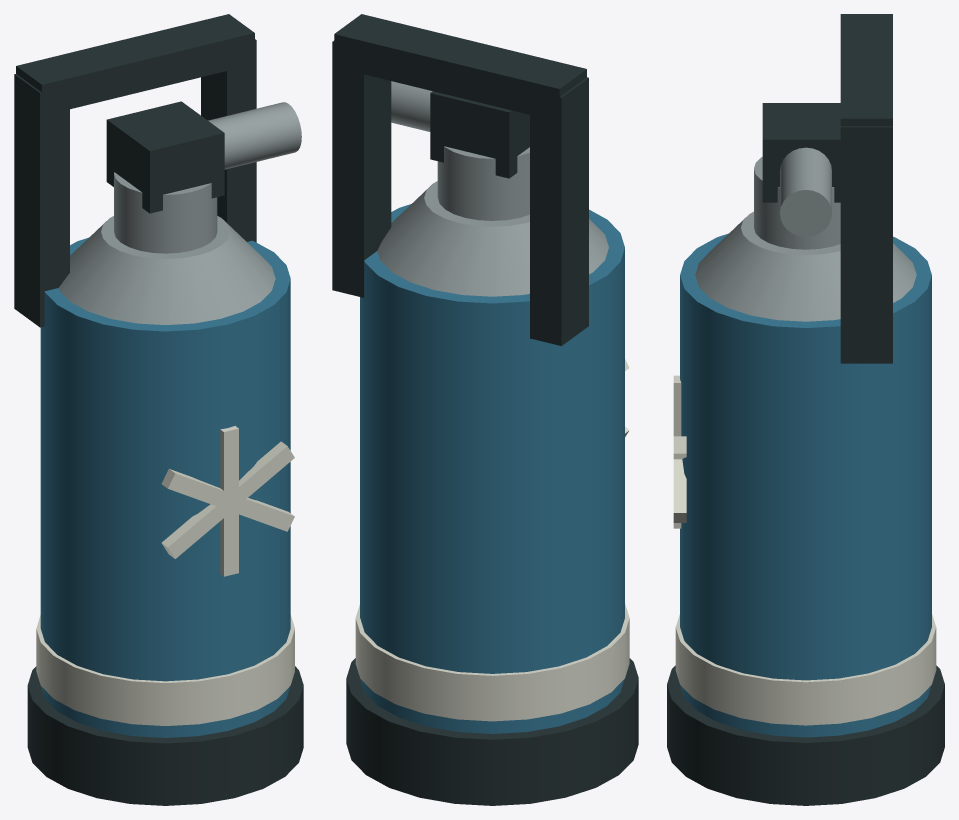
The model's file is FSA_ITEM_Consumable_007_Coolant.glb.
The picture shows the model from 3 angles, left to right: view 1: azimuth 30°, elevation 25°; view 2: azimuth 150°, elevation 25°; view 3: azimuth 270°, elevation 25°; orthographic projection. The views are drawn at different scales.
Parts seen in each view (by area): view 1: TankBody, TankBase, Shoulder, GuardBridge, ValveGuard_-1, LowerBand, Valve, ValveNeck, ValveGuard_1, Outlet, CoolingMark_2, CoolingMark_0 (+1 smaller); view 2: TankBody, TankBase, ValveGuard_-1, LowerBand, GuardBridge, ValveGuard_1, Shoulder, Valve, ValveNeck, Outlet; view 3: TankBody, TankBase, ValveGuard_1, LowerBand, Shoulder, GuardBridge, Valve, Outlet, ValveNeck, CoolingMark_1, CoolingMark_0.
Boxes of the visible parts, bbox=[...] form: TankBody: bbox=[40, 237, 290, 737]; TankBase: bbox=[27, 666, 303, 805]; Shoulder: bbox=[58, 216, 275, 324]; GuardBridge: bbox=[16, 14, 254, 115]; ValveGuard_-1: bbox=[14, 74, 69, 327]; LowerBand: bbox=[36, 615, 294, 725]; Valve: bbox=[106, 101, 224, 213]; ValveNeck: bbox=[114, 172, 217, 253]; ValveGuard_1: bbox=[201, 39, 256, 242]; Outlet: bbox=[208, 102, 301, 169]; CoolingMark_2: bbox=[161, 441, 294, 558]; CoolingMark_0: bbox=[220, 426, 238, 576]; TankBody: bbox=[360, 204, 624, 733]; TankBase: bbox=[346, 658, 638, 805]; ValveGuard_-1: bbox=[530, 77, 588, 345]; LowerBand: bbox=[355, 604, 629, 721]; GuardBridge: bbox=[334, 14, 586, 120]; ValveGuard_1: bbox=[332, 40, 391, 297]; Shoulder: bbox=[377, 181, 608, 296]; Valve: bbox=[430, 91, 529, 178]; ValveNeck: bbox=[437, 146, 529, 220]; Outlet: bbox=[391, 81, 432, 131]; TankBody: bbox=[680, 233, 931, 737]; TankBase: bbox=[667, 665, 944, 805]; ValveGuard_1: bbox=[840, 126, 892, 363]; LowerBand: bbox=[675, 614, 936, 725]; Shoulder: bbox=[695, 211, 916, 321]; GuardBridge: bbox=[840, 14, 892, 126]; Valve: bbox=[762, 103, 840, 202]; Outlet: bbox=[780, 147, 831, 236]; ValveNeck: bbox=[754, 157, 840, 249]; CoolingMark_1: bbox=[673, 459, 686, 522]; CoolingMark_0: bbox=[673, 375, 681, 528].
Bounding box in the file's own units: 0.065 × 0.173 × 0.064.
